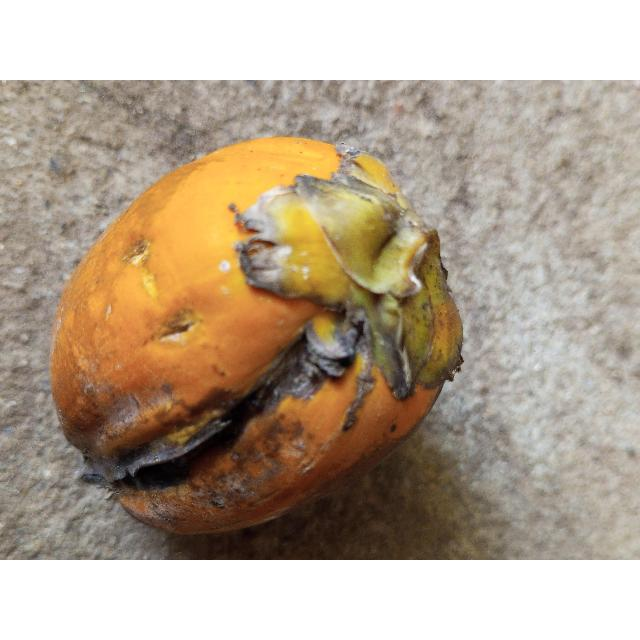damaged: (49, 137, 464, 538)
